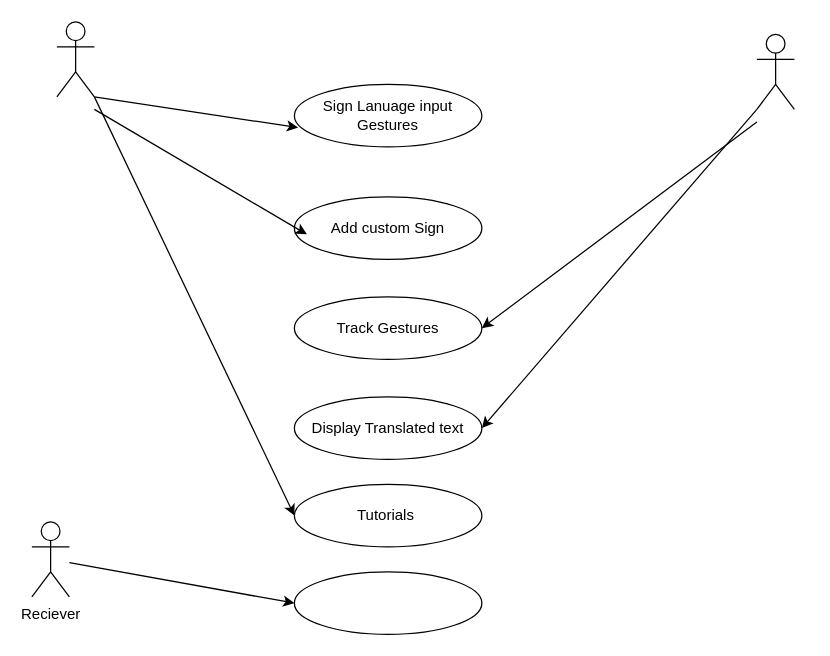
The diagram is 830 pixels wide and 656 high, and some of its shapes have lost their labels. Here are the shapes that lost their labels. From the top down, the centre of each, then its label:
At [75,59]: "disabled".
At [775,71]: "Computer".
At [387,602]: "View Result text".
